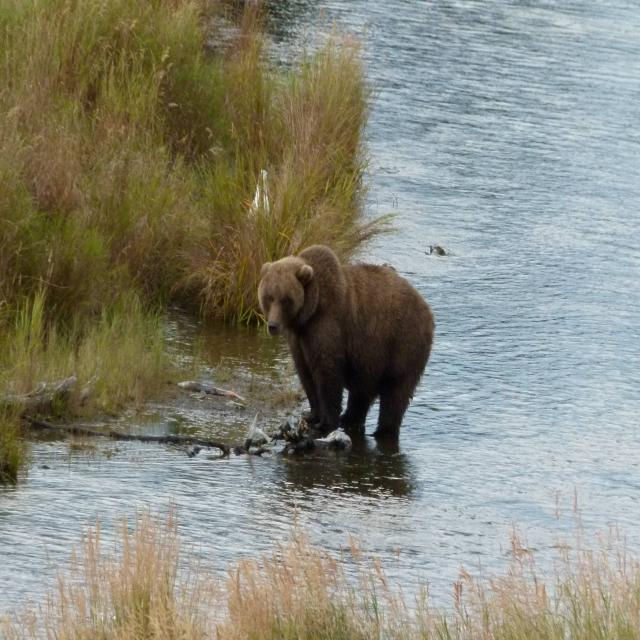bear face: (259, 245, 434, 436)
